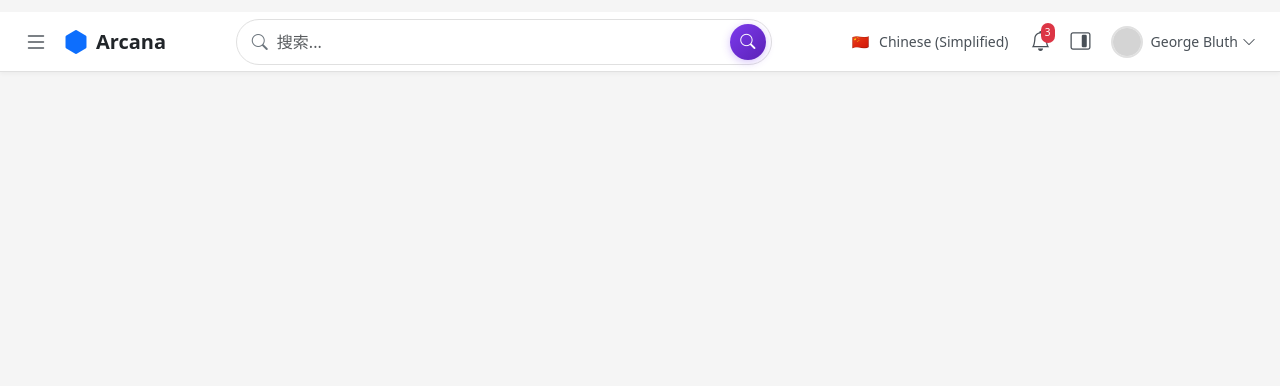
Test: HeaderComponent › user dropdown › should display user info in dropdown
Click the button with class "user-menu-toggle".
click(1183, 42)  # box top-left (1103, 22), bottom-right (1264, 62)
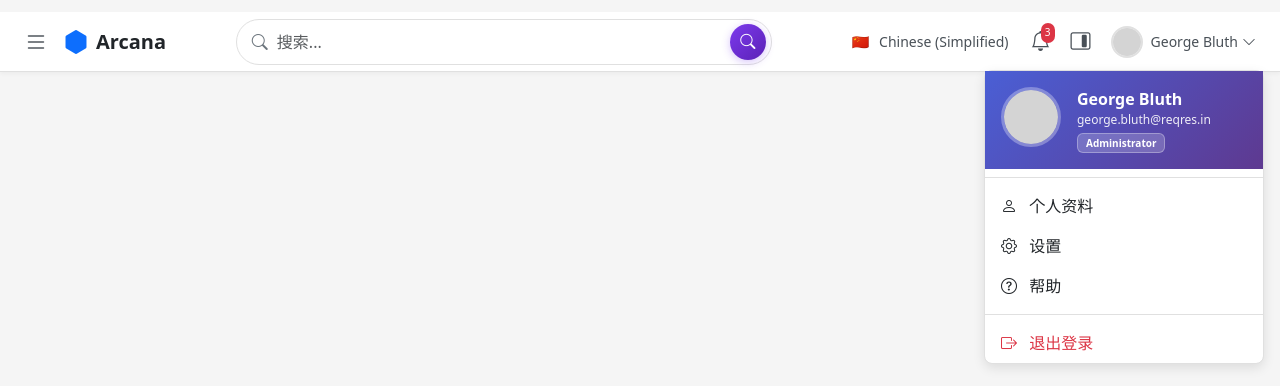
Expected: the text "George Bluth" is shown, top-left (1151, 31), bottom-right (1238, 52)
Now the element with class "user-dropdown-header" is shown, box top-left (985, 70), bottom-right (1263, 168)
Now the text "george.bluth@reqres.in" is shown, box top-left (1077, 110), bottom-right (1211, 128)
